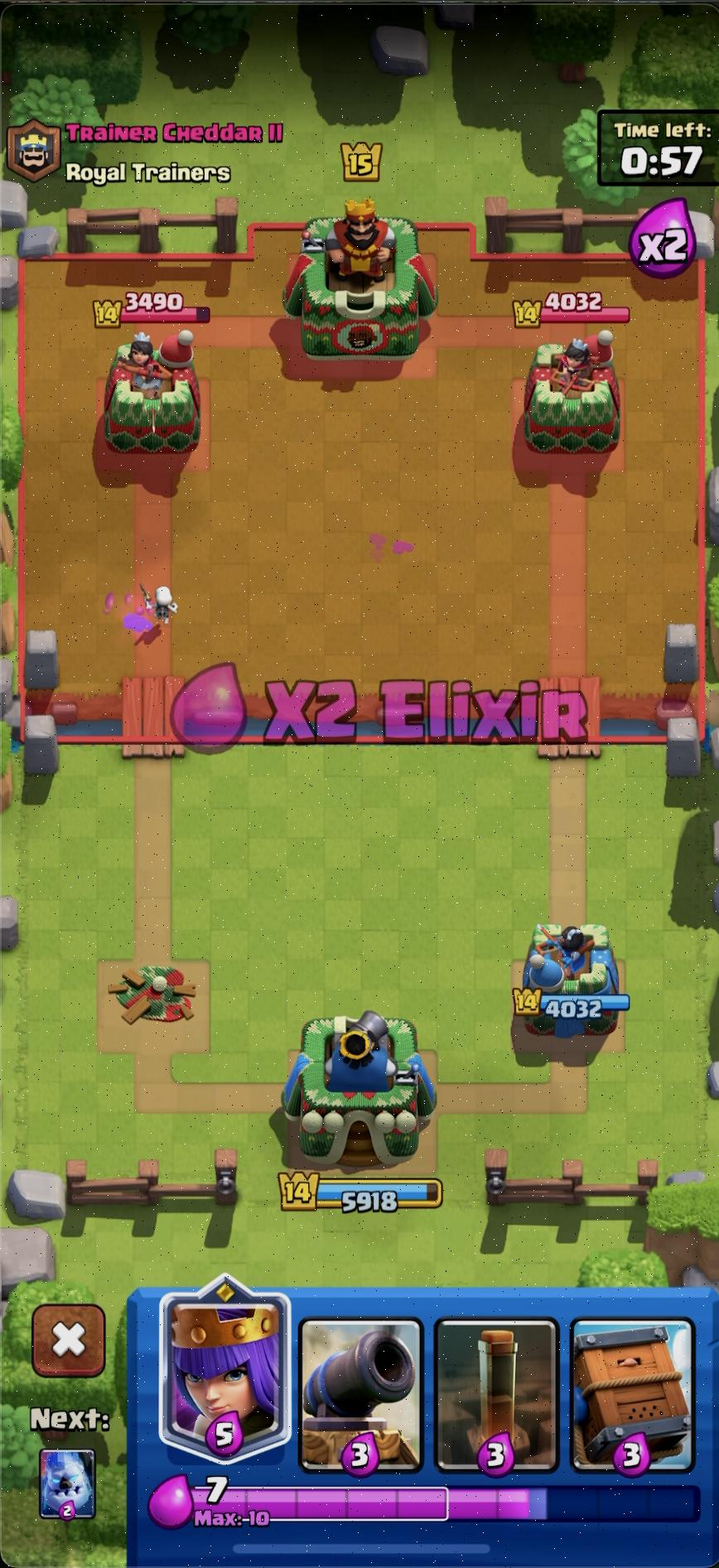card_archerqueen: (155, 1267, 292, 1465)
card_cannon: (296, 1314, 427, 1477)
card_earthquake: (433, 1315, 566, 1475)
card_icegolem: (35, 1445, 101, 1525)
card_royaldelivery: (568, 1314, 693, 1473)
